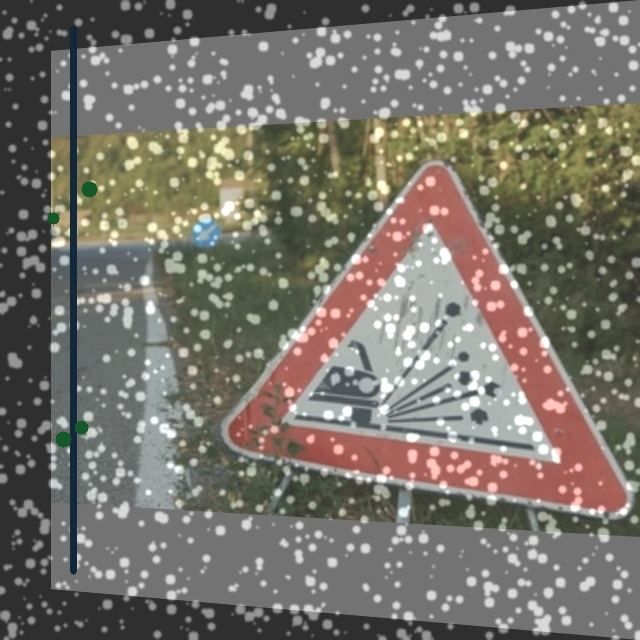Loose_Gravel: (249, 154, 611, 495)
